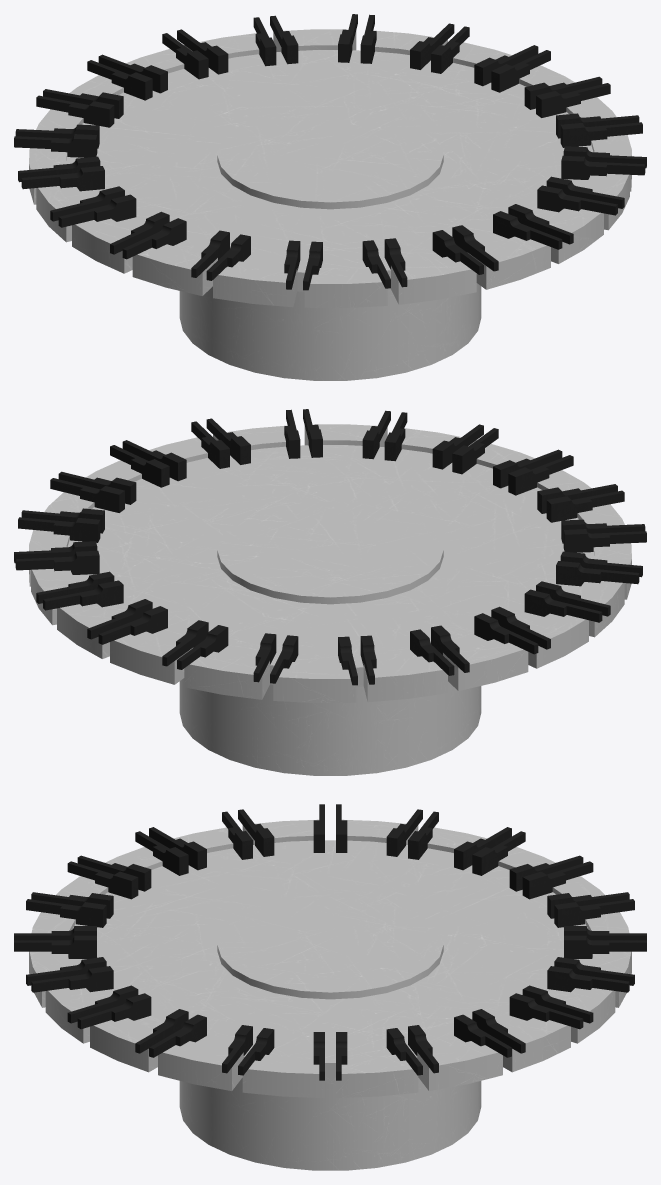
File: Rotating_Table_Station.glb
The picture shows the model from 3 angles, top to bottom: view 1: azimuth 30°, elevation 25°; view 2: azimuth 150°, elevation 25°; view 3: azimuth 270°, elevation 25°; orthographic projection.
Parts seen in each view (by area): view 1: color[1], color.001, color-2[37], color-2[8], color-2[36], color-2[7], color-2[9], color-2[38], color-2[6], color-2[35], color-2[39], color-2[10] (+30 smaller); view 2: color[1], color.001, color-2[14], color-2[23], color-2[15], color-2[24], color-2[22], color-2[13], color-2[25], color-2[16], color-2[12], color-2[21] (+30 smaller); view 3: color[1], color.001, color-2[20], color-2[31], color-2[1], color-2[30], color-2[2], color-2[29], color-2[28], color-2[3], color-2[19], color-2[32] (+26 smaller).
Part boxes in pixels (x1,y1,x2,y2): color[1]: (29, 29, 631, 307); color.001: (179, 283, 481, 380); color-2[37]: (561, 155, 645, 179); color-2[8]: (14, 134, 97, 157); color-2[36]: (560, 122, 642, 147); color-2[7]: (21, 166, 104, 191); color-2[9]: (36, 95, 114, 127); color-2[38]: (537, 185, 617, 215); color-2[6]: (58, 194, 136, 227); color-2[35]: (536, 83, 610, 117); color-2[39]: (493, 211, 562, 249); color-2[10]: (87, 60, 152, 100); color[1]: (29, 424, 631, 702); color.001: (179, 678, 481, 775); color-2[14]: (15, 550, 99, 574); color-2[23]: (563, 529, 646, 552); color-2[15]: (18, 517, 100, 542); color-2[24]: (556, 561, 639, 586); color-2[22]: (546, 490, 624, 522); color-2[13]: (43, 580, 123, 610); color-2[25]: (524, 589, 602, 622); color-2[16]: (50, 478, 124, 512); color-2[12]: (98, 606, 167, 644); color-2[21]: (508, 455, 573, 495); color[1]: (29, 819, 631, 1097); color.001: (179, 1078, 481, 1170); color-2[20]: (31, 966, 113, 992); color-2[31]: (547, 966, 629, 992); color-2[1]: (14, 935, 96, 958); color-2[30]: (564, 935, 646, 958); color-2[2]: (26, 899, 106, 927); color-2[29]: (554, 899, 634, 927); color-2[28]: (522, 861, 593, 899); color-2[3]: (67, 861, 138, 899); color-2[19]: (77, 993, 151, 1029); color-2[32]: (509, 993, 583, 1029).
Bounding box in the file's own units: 0.84 × 0.255 × 0.84.
3 materials, 3 textured.
